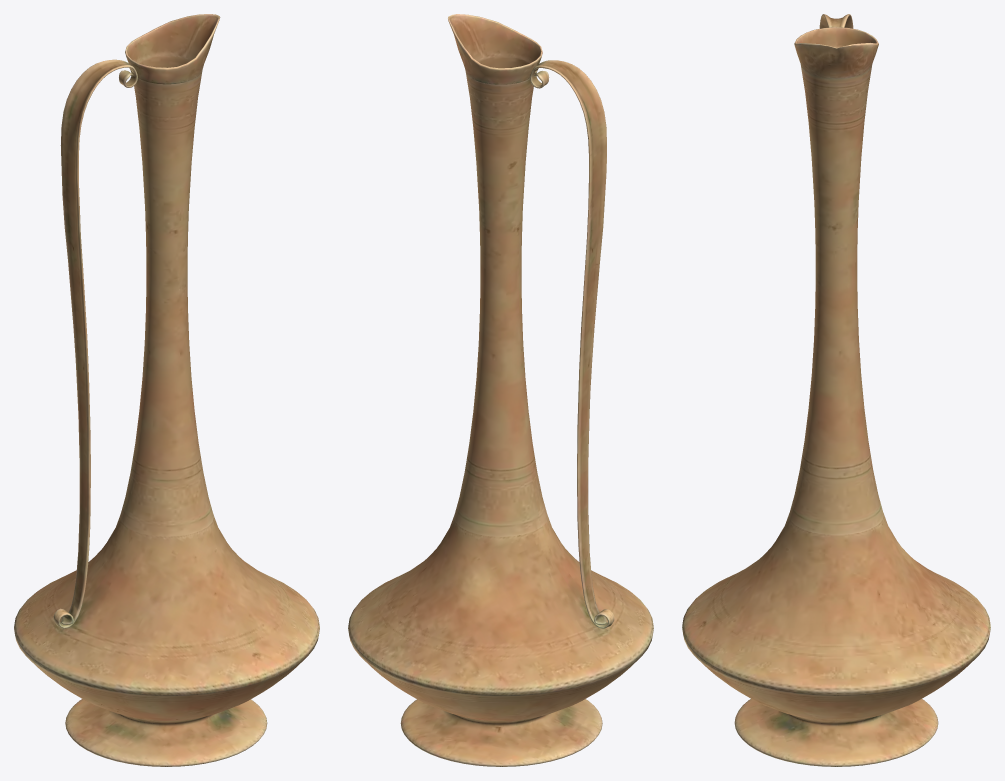
Rendered from brass_vase_02.glb.
The picture shows the model from 3 angles, left to right: view 1: azimuth 30°, elevation 25°; view 2: azimuth 150°, elevation 25°; view 3: azimuth 270°, elevation 25°; orthographic projection.
Visible parts, largest first — view 1: brass_vase_02; view 2: brass_vase_02; view 3: brass_vase_02.
Part boxes in pixels (box(x1,y1,x2,y2)): brass_vase_02: box(14, 14, 319, 766); brass_vase_02: box(348, 14, 653, 766); brass_vase_02: box(682, 14, 990, 766).
Size of the model in its own units: 0.2102 by 0.5286 by 0.2102.
1 material, 1 textured.
